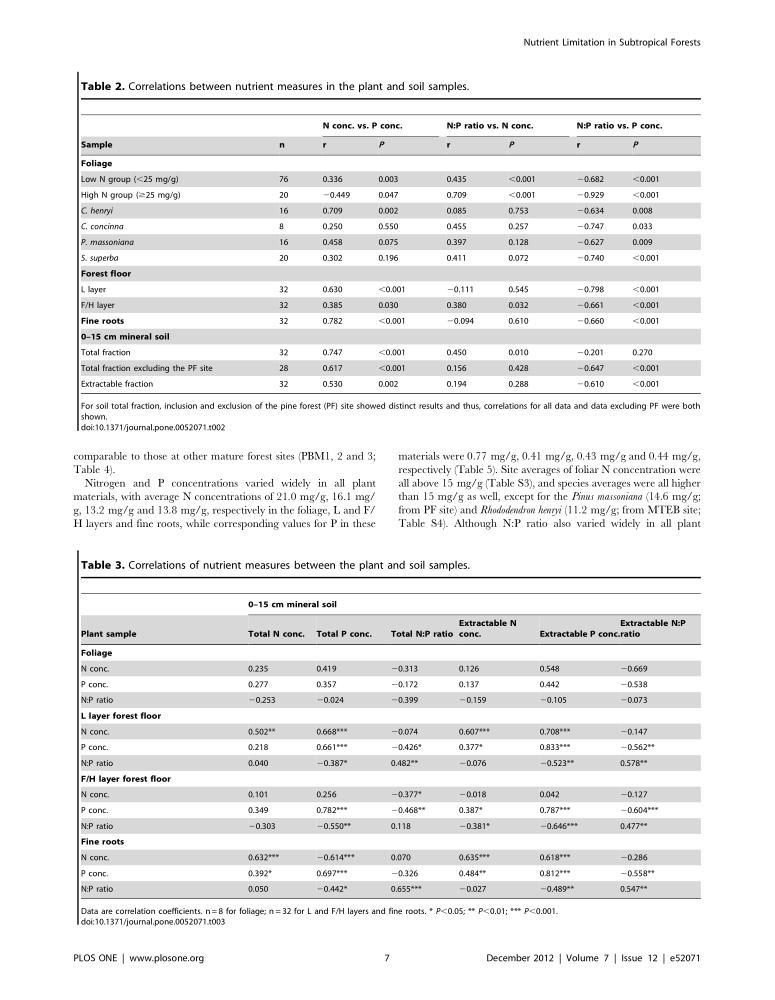table: (80, 600, 685, 893), (80, 121, 662, 388)
